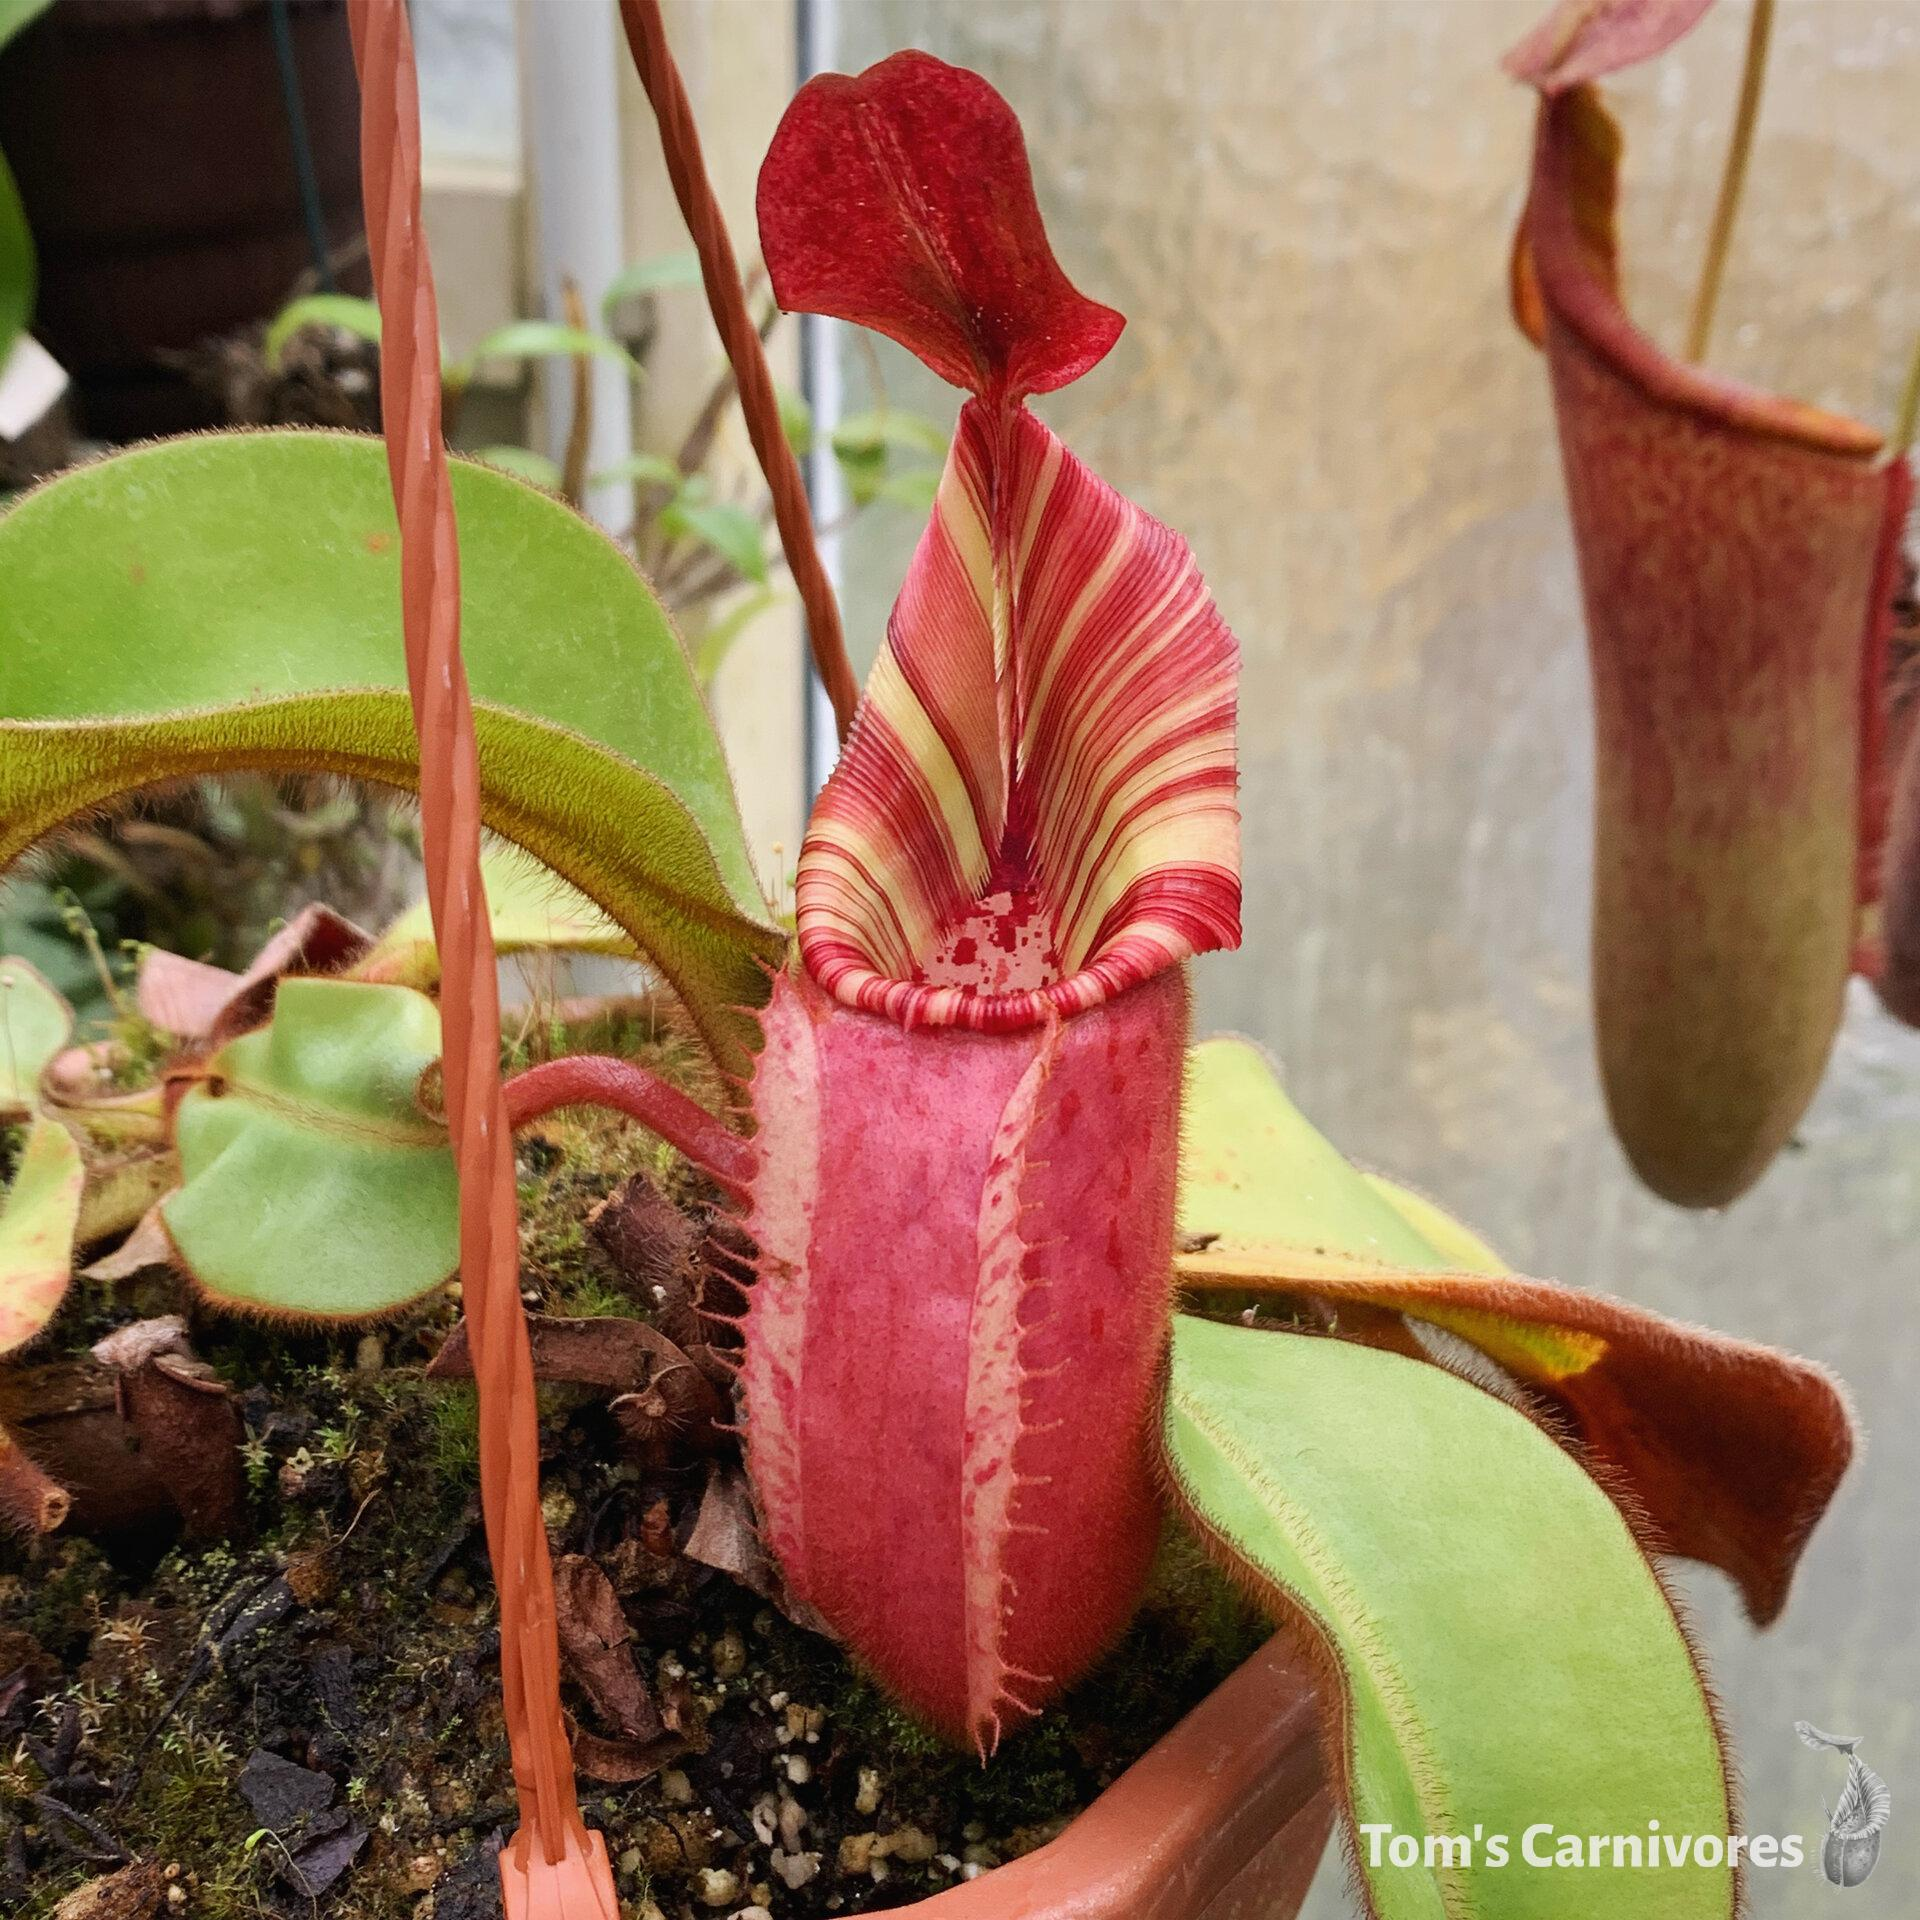veitchii: (568, 33, 1349, 1793)
